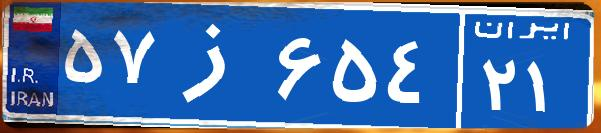1: (525, 38, 570, 115)
2: (475, 38, 525, 113)
4: (385, 28, 445, 110)
5: (330, 28, 385, 110), (57, 26, 110, 107)
6: (273, 28, 330, 110)
7: (110, 28, 158, 105)
ز: (158, 15, 273, 115)
